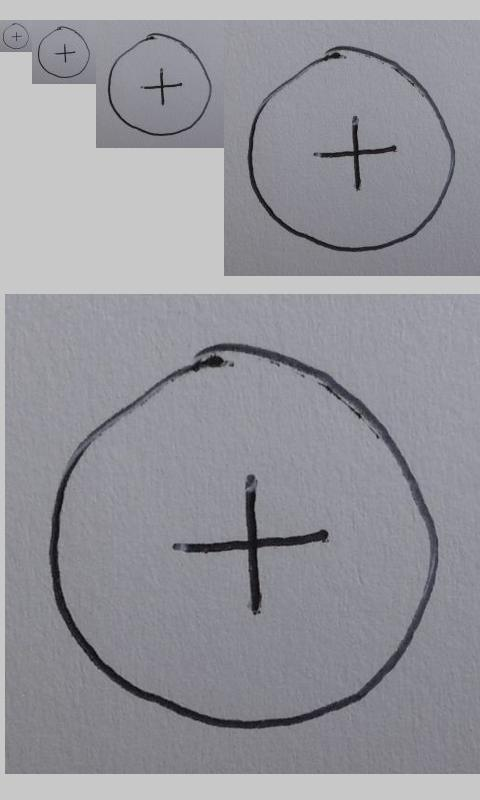button: (48, 342, 442, 729), (247, 44, 457, 253), (107, 32, 213, 136), (37, 26, 91, 79), (2, 22, 30, 50)
